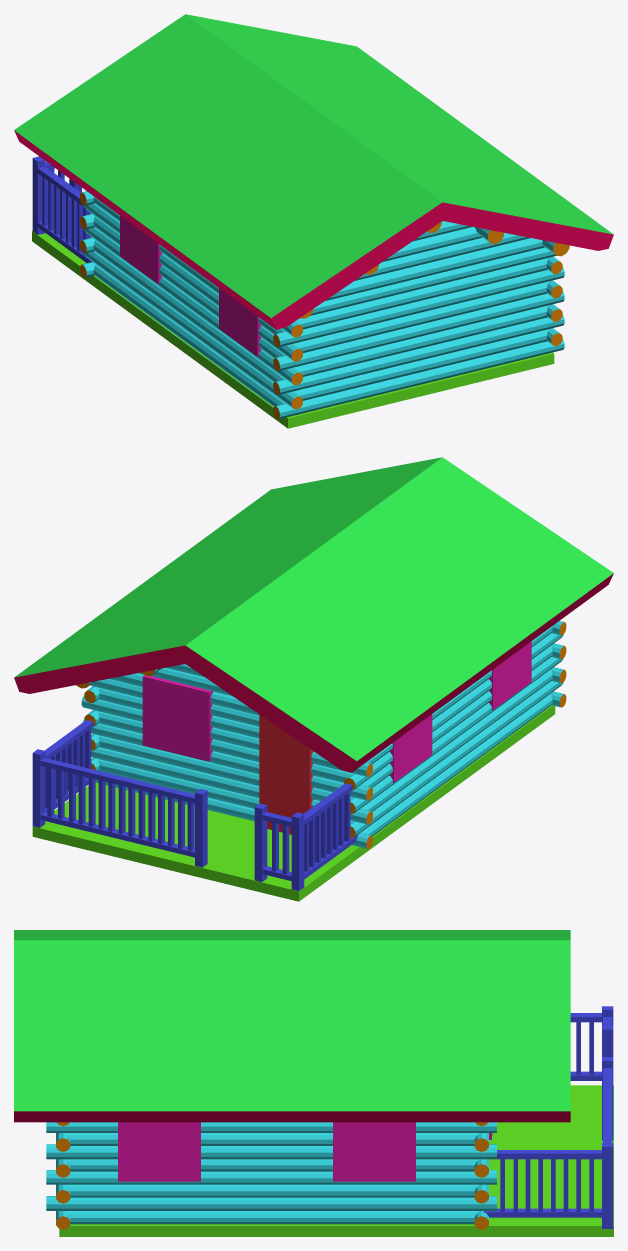
File: cabin.fbx
3 renders of one model, top to bottom at view 1: azimuth 30°, elevation 25°; view 2: azimuth 150°, elevation 25°; view 3: azimuth 270°, elevation 25°, orthographic. The views are drawn at different scales.
Parts seen in each view (by area): view 1: roof, short walls, long walls, floor base, railings and facade, side windows, top beams; view 2: roof, railings and facade, short walls, floor base, long walls, side windows; view 3: roof, long walls, floor base, side windows, railings and facade, short walls.
Part boxes in pixels (box(x1,y1,x2,y2)): roof: box(14, 14, 613, 329); short walls: box(80, 191, 564, 419); long walls: box(83, 196, 562, 409); floor base: box(32, 231, 554, 428); railings and facade: box(32, 156, 92, 262); side windows: box(120, 215, 261, 356); top beams: box(300, 222, 569, 318); roof: box(14, 457, 613, 772); railings and facade: box(32, 675, 358, 890); short walls: box(81, 621, 566, 848); floor base: box(32, 705, 555, 901); long walls: box(84, 626, 563, 838); side windows: box(389, 641, 531, 782); roof: box(14, 930, 570, 1122); long walls: box(46, 1122, 496, 1224); floor base: box(59, 1085, 613, 1236); side windows: box(118, 1122, 415, 1181); railings and facade: box(483, 1006, 613, 1228); short walls: box(56, 1122, 488, 1229).
Bounding box in the file's own units: 466 × 272 × 653.
